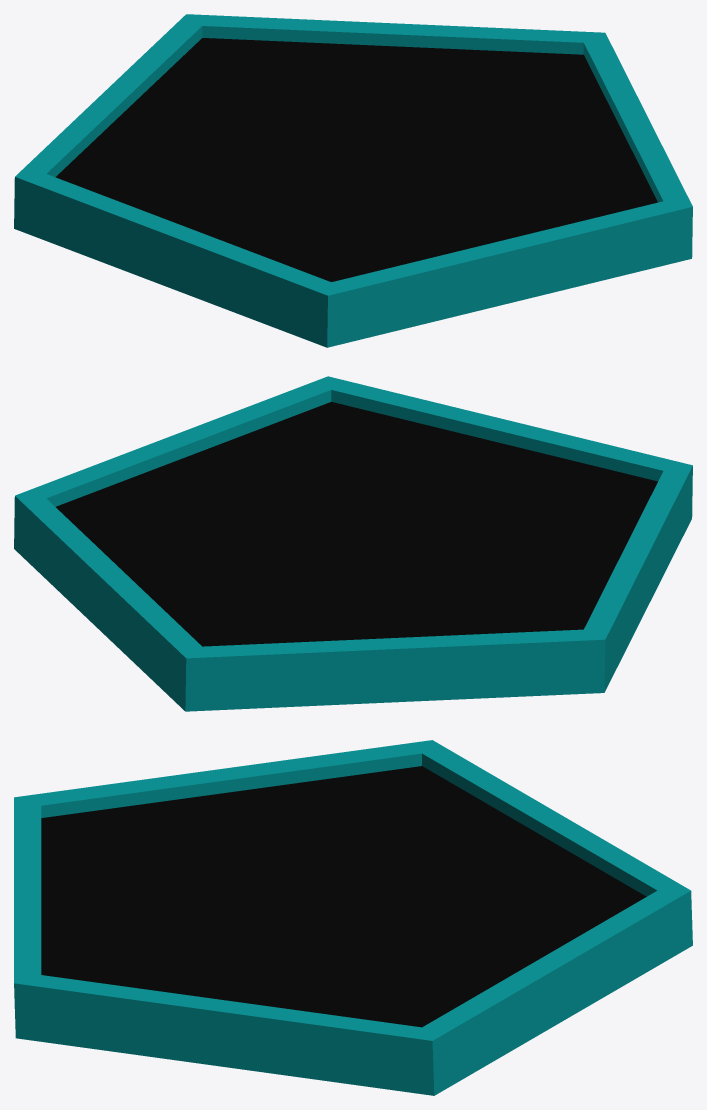
The model's file is SFI0210034.fbx.
3 renders of one model, top to bottom at view 1: azimuth 30°, elevation 25°; view 2: azimuth 150°, elevation 25°; view 3: azimuth 270°, elevation 25°, orthographic. The views are drawn at different scales.
Visible parts, largest first — view 1: smSFI0210034; view 2: smSFI0210034; view 3: smSFI0210034.
Boxes of the visible parts, x1,y1,x2,y2 form: smSFI0210034: [14, 14, 692, 347]; smSFI0210034: [14, 376, 692, 711]; smSFI0210034: [14, 740, 692, 1095].
Size of the model in its own units: 137 by 11.7 by 130.
